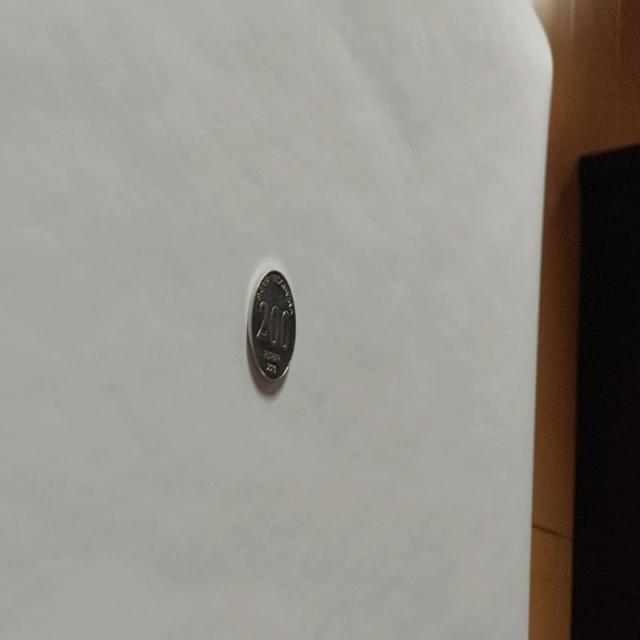dua ratus rupiah: (246, 267, 296, 385)
